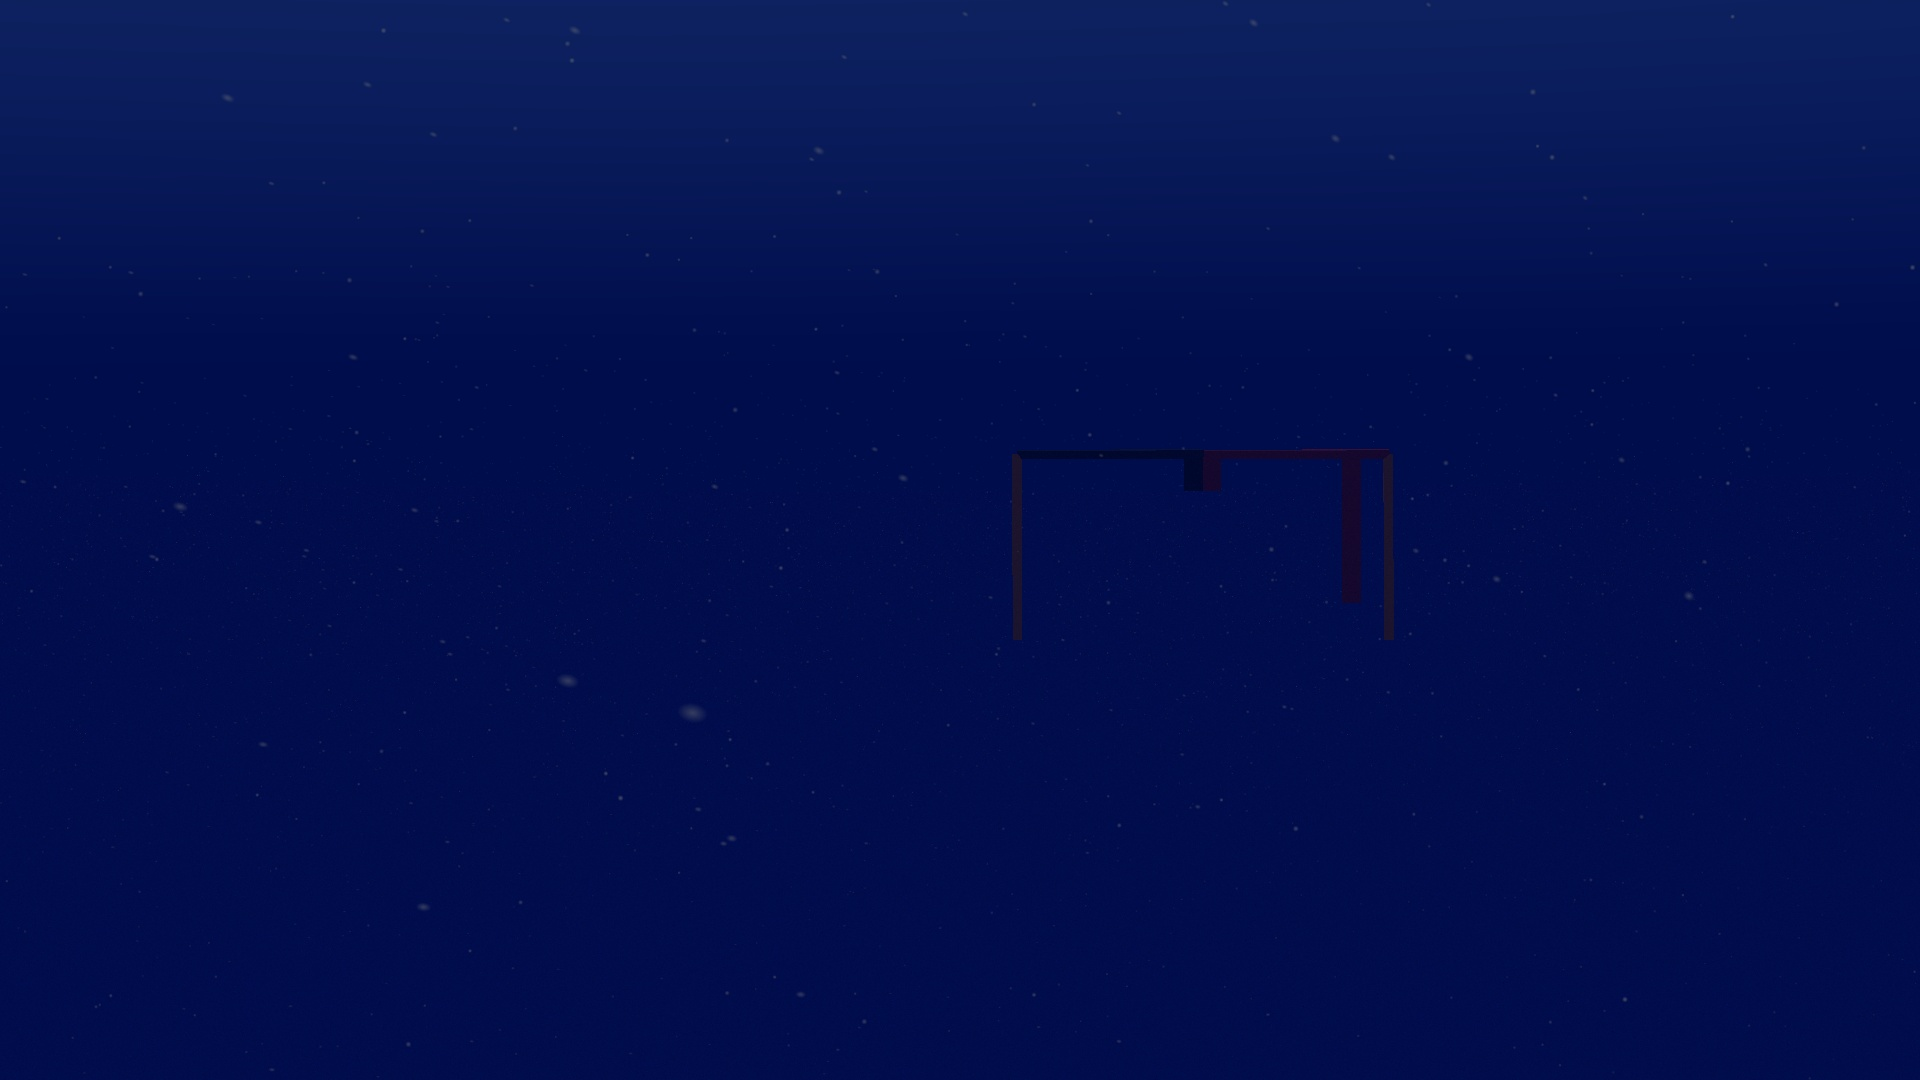Gate: (1004, 439, 1404, 655)
